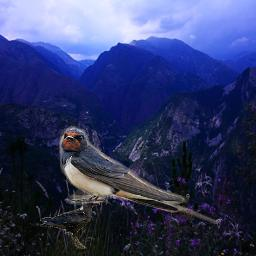Crow: (40, 199, 100, 249)
Swallow: (59, 126, 221, 224)
